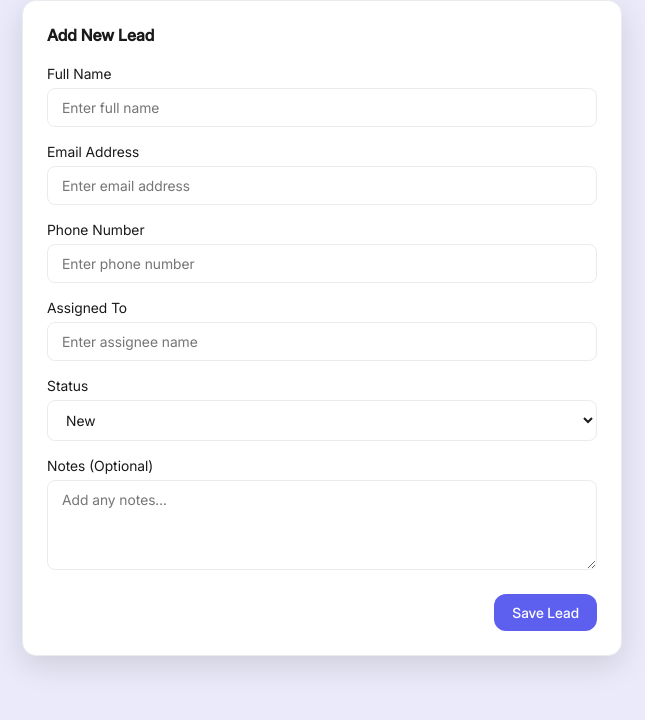
a network failure shows a connection message
Step 1. Type "Ada Lovelace" into the field labelled "Full Name" → (322, 108), box [47, 88, 597, 127]
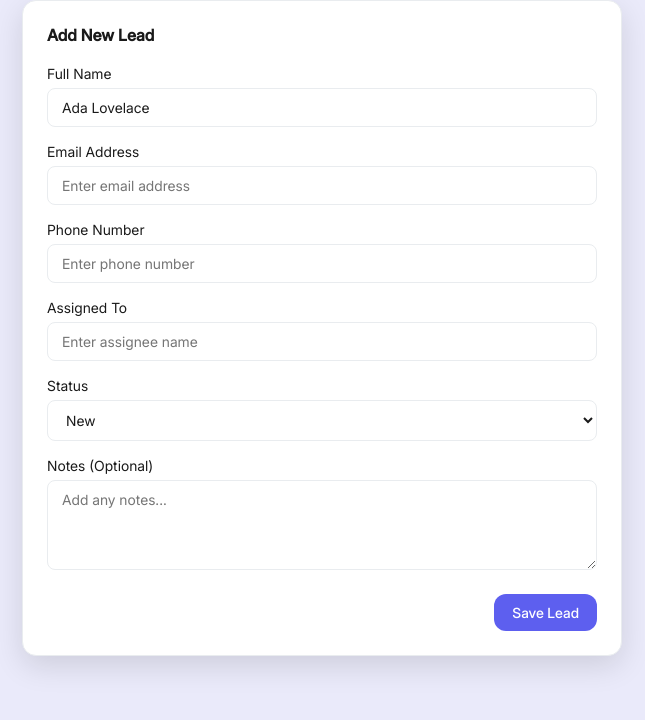
Step 2. Type "ada@example.test" into the field labelled "Email Address" → (322, 186), box [47, 166, 597, 205]
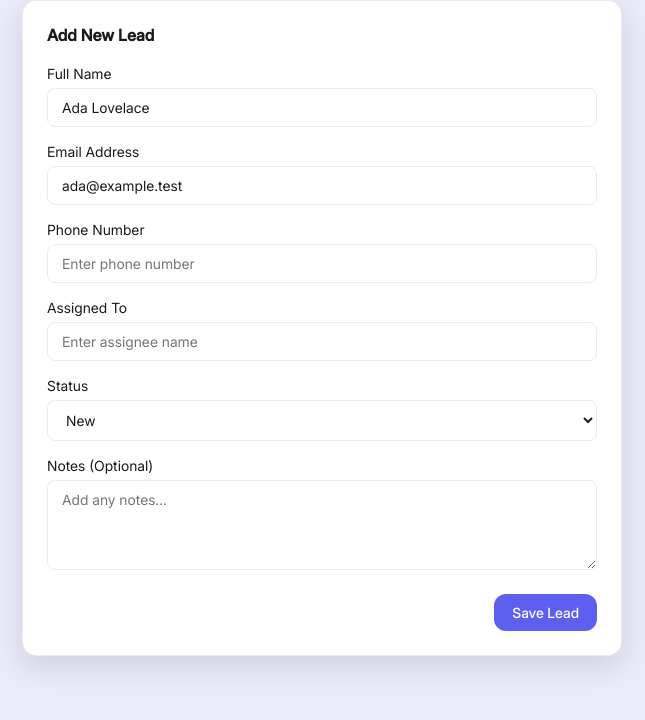
Step 3. Type "0300" into the field labelled "Phone Number" → (322, 264), box [47, 244, 597, 283]
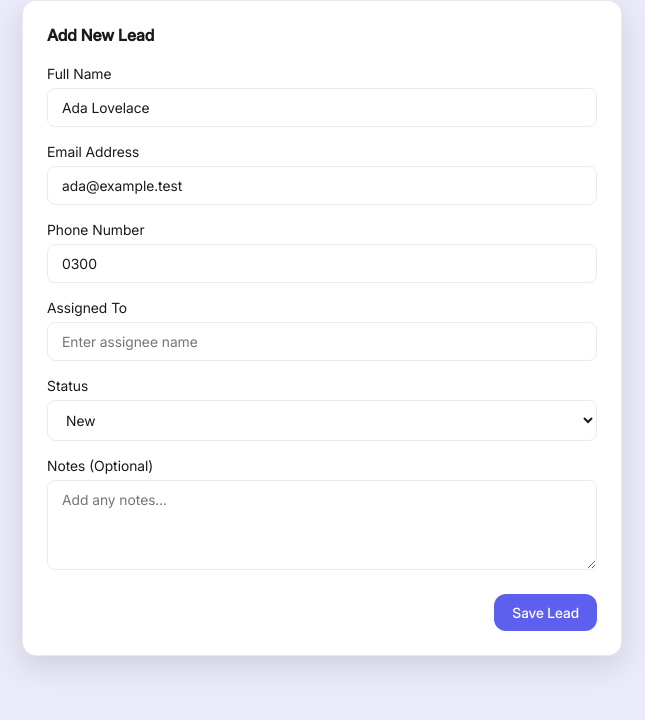
Step 4. Type "Sam" into the field labelled "Assigned To" → (322, 342), box [47, 322, 597, 361]
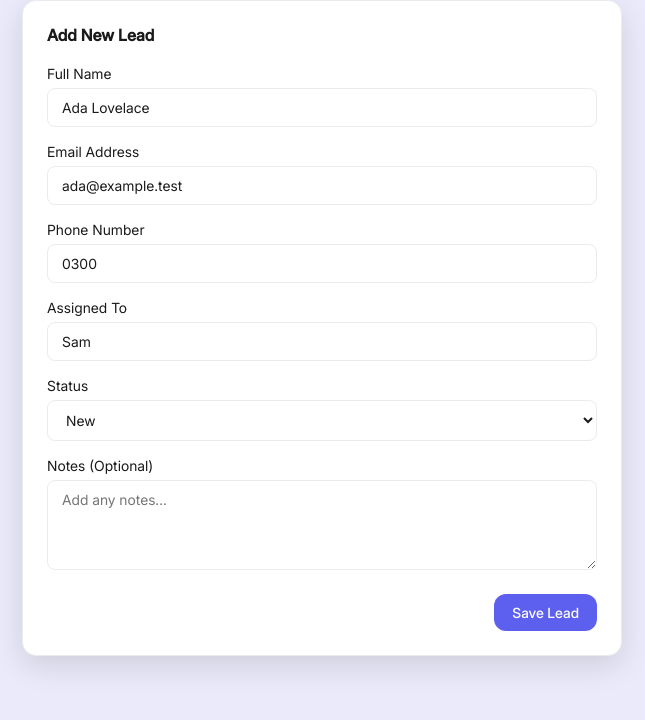
Step 5. Click the button "Save Lead" → (546, 612), box [494, 594, 597, 631]
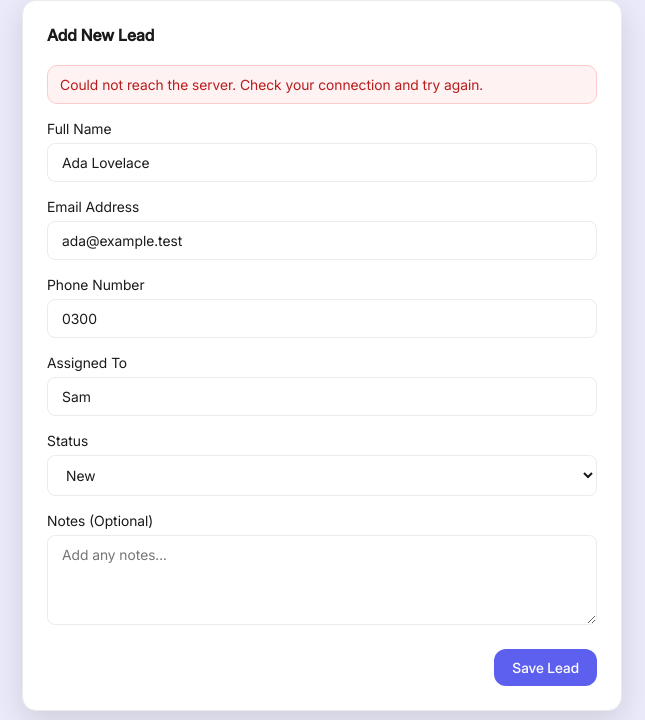
Now the message shows "Could not reach the server", box [60, 76, 483, 93]
